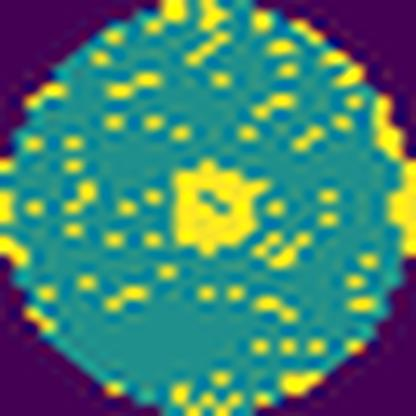Center: (167, 155, 274, 259)
